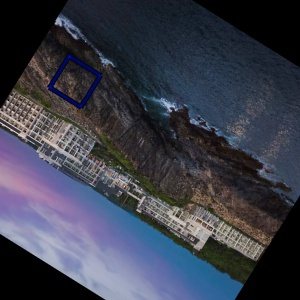square: (46, 53, 103, 110)
